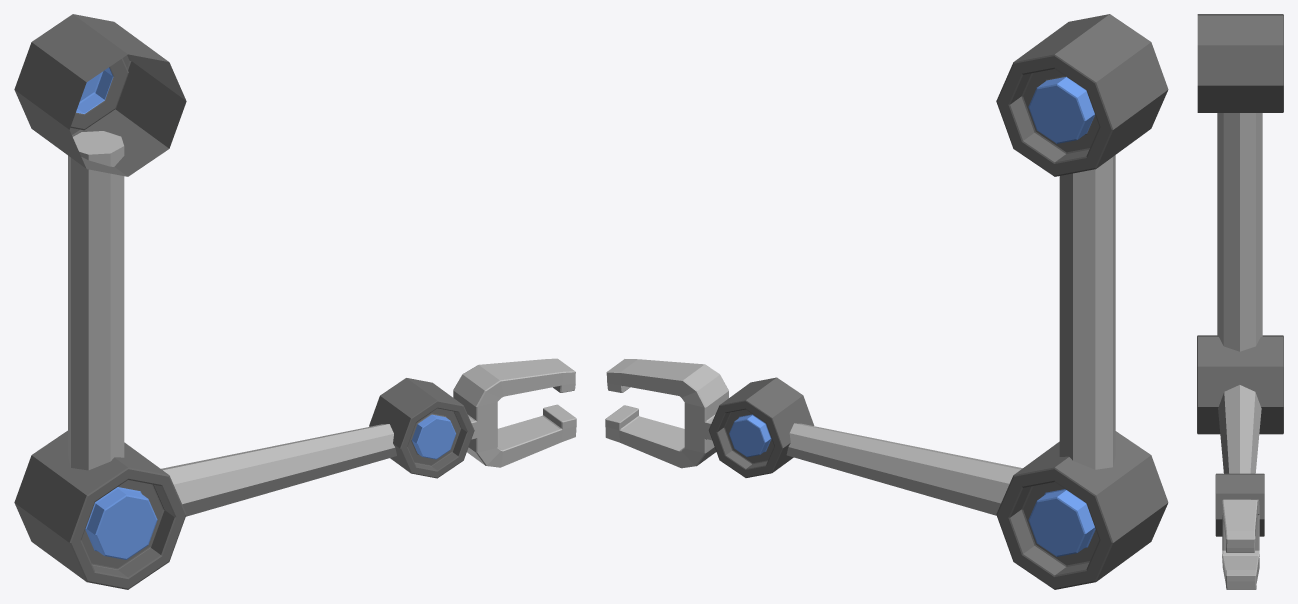
The model's file is SM_Arm1.fbx.
The picture shows the model from 3 angles, left to right: view 1: azimuth 30°, elevation 25°; view 2: azimuth 150°, elevation 25°; view 3: azimuth 270°, elevation 25°; orthographic projection. The views are drawn at different scales.
Visible parts, largest first — view 1: SM_Arm1; view 2: SM_Arm1; view 3: SM_Arm1.
Part boxes in pixels (x1,y1,x2,y2): SM_Arm1: [14, 14, 576, 589]; SM_Arm1: [605, 14, 1168, 589]; SM_Arm1: [1197, 14, 1283, 589].
Size of the model in its own units: 104 by 19.13 by 101.
Materials: 1 (1 with a texture image).
